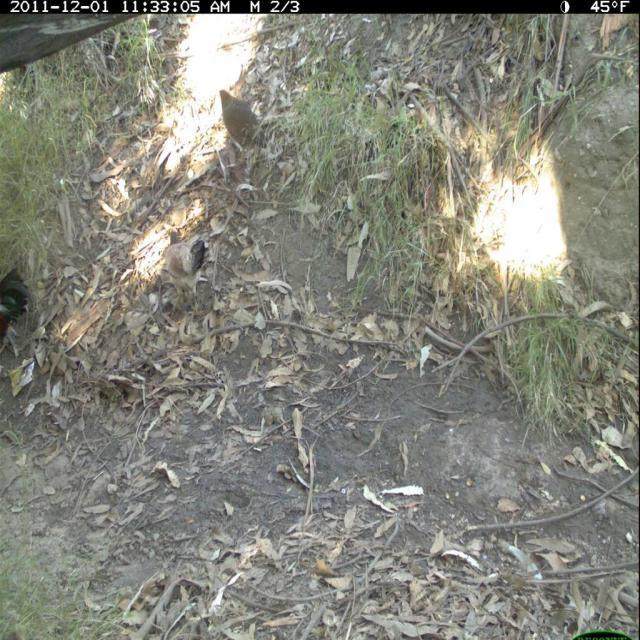bird: (217, 84, 277, 172), (155, 215, 211, 305), (2, 264, 35, 352)
